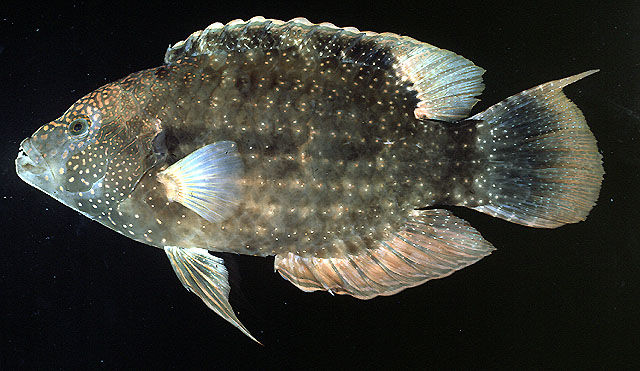fish: (18, 15, 607, 345)
